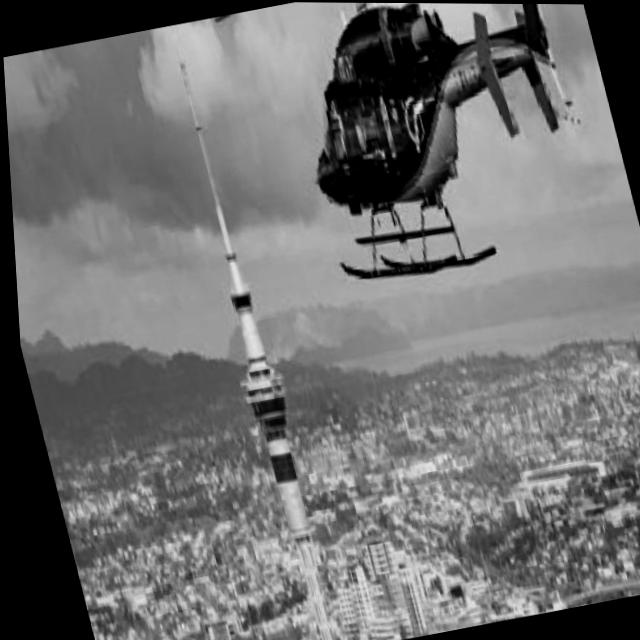helikopter: (199, 1, 626, 329)
